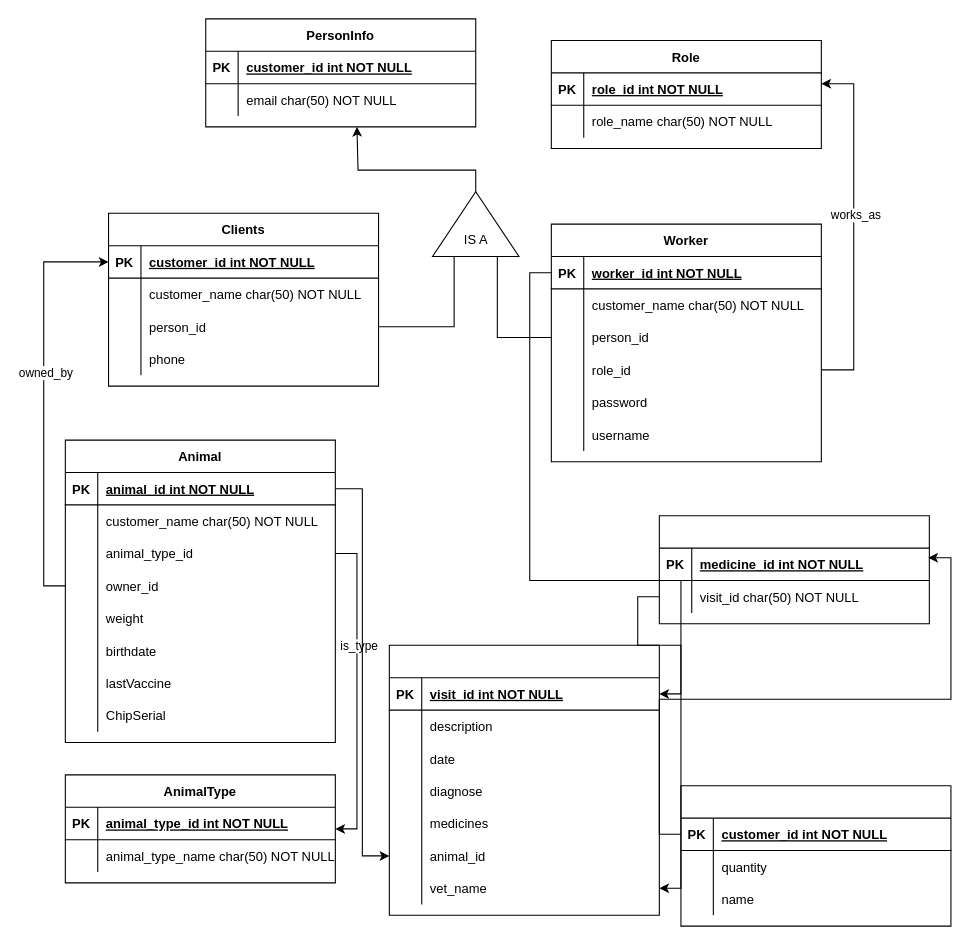
Image size: 978x945. Some labels were removed from this diagram. Each missing label, with the box of its shape:
Medicine: (680, 785, 951, 926)
Prescription: (658, 515, 929, 624)
Visits: (388, 644, 659, 915)
